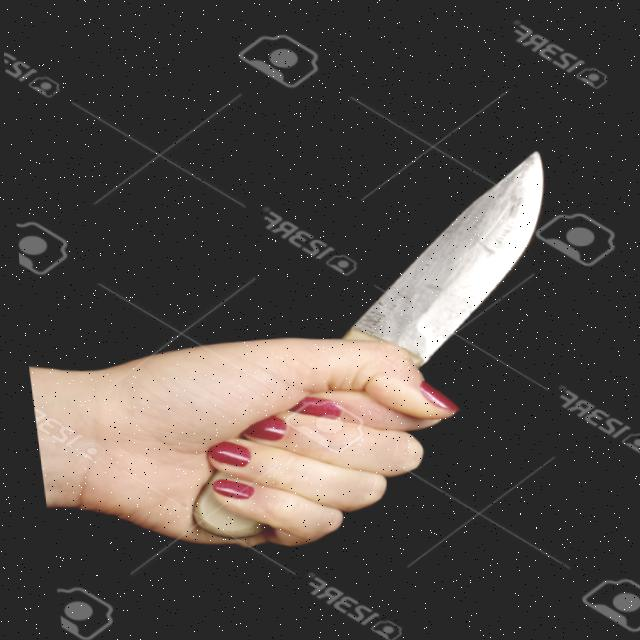knife: (322, 141, 592, 364)
